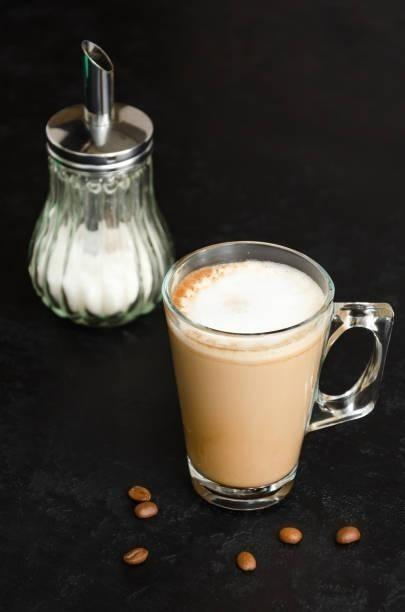glass-mug: (160, 238, 395, 514)
